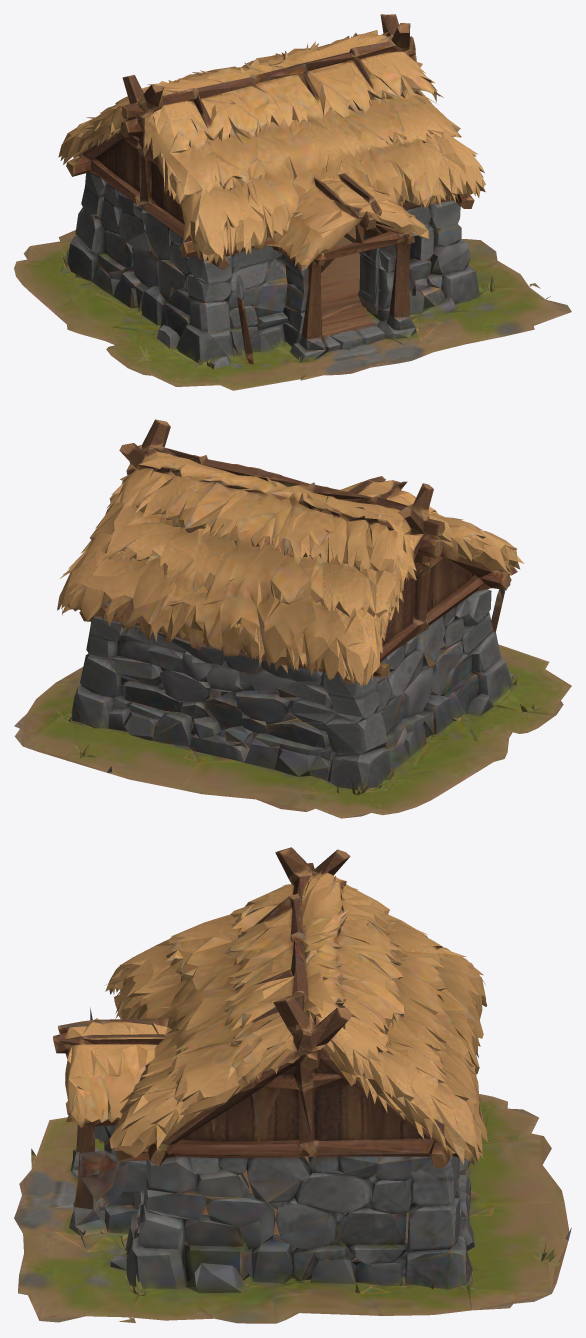
File: barracks.glb
3 renders of one model, top to bottom at view 1: azimuth 30°, elevation 25°; view 2: azimuth 150°, elevation 25°; view 3: azimuth 270°, elevation 25°, orthographic. The views are drawn at different scales.
Bounding box in the file's own units: 1.87 × 1.03 × 1.83.
1 material, 1 textured.
